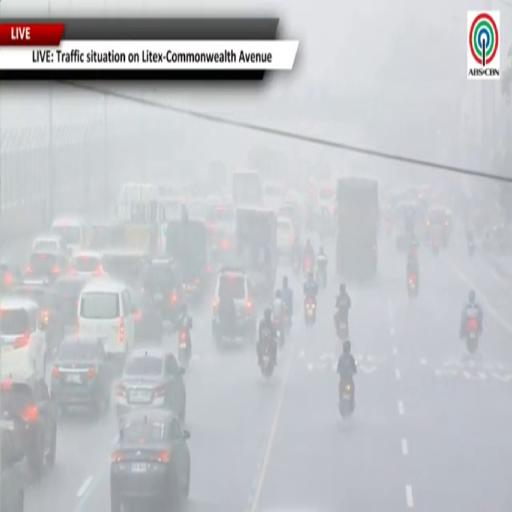car: (111, 409, 190, 511), (2, 373, 56, 475), (116, 346, 186, 421), (78, 279, 134, 361), (51, 338, 112, 413), (0, 296, 46, 377), (12, 283, 64, 353), (212, 267, 257, 344), (141, 259, 184, 323), (51, 275, 91, 328), (0, 429, 24, 511), (129, 288, 163, 345), (23, 250, 68, 283), (209, 204, 235, 261), (51, 217, 86, 253), (88, 219, 124, 250), (69, 250, 104, 277), (277, 217, 296, 257), (32, 234, 67, 253), (0, 260, 20, 293)
motorcycle: (178, 323, 191, 371), (338, 382, 354, 419), (261, 343, 275, 378), (466, 317, 479, 354), (334, 312, 349, 342), (304, 297, 316, 326), (273, 318, 284, 347), (316, 264, 327, 289), (408, 272, 418, 297), (283, 303, 290, 333), (303, 258, 312, 277), (432, 236, 440, 256), (292, 259, 300, 276), (468, 240, 476, 257)
truck: (336, 176, 378, 280), (236, 207, 278, 299), (166, 218, 209, 297), (232, 171, 263, 206)
